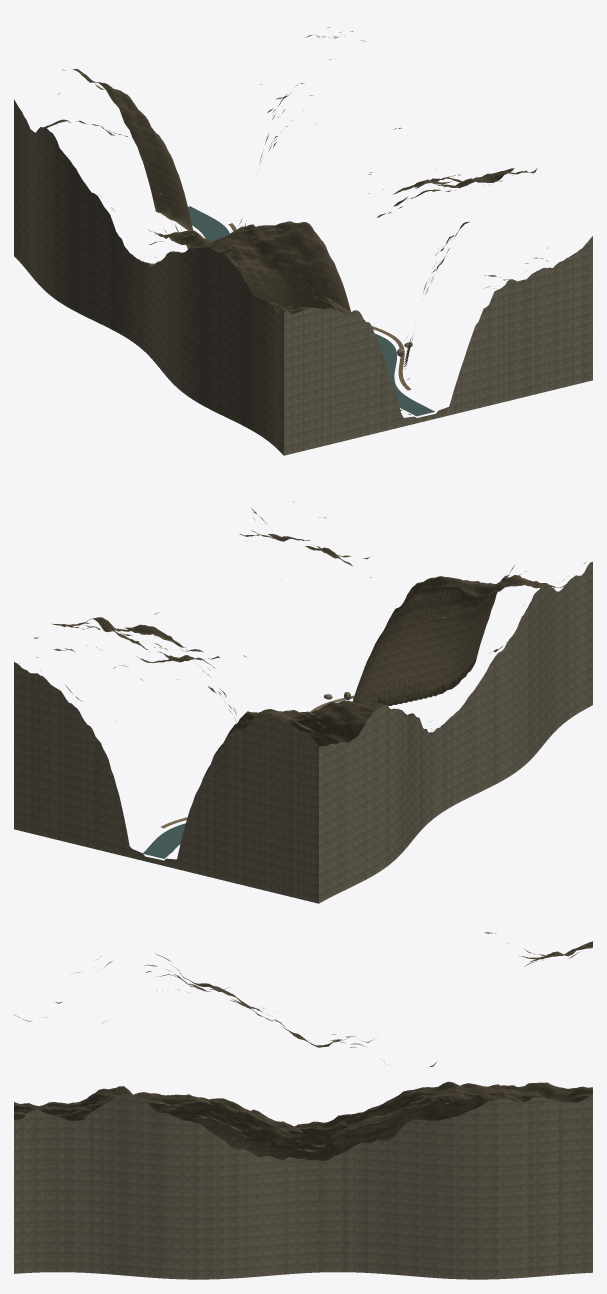
The model's file is ch10_lazikou_pass.glb.
The picture shows the model from 3 angles, top to bottom: view 1: azimuth 30°, elevation 25°; view 2: azimuth 150°, elevation 25°; view 3: azimuth 270°, elevation 25°; orthographic projection. The views are drawn at different scales.
Visible parts, largest first — view 1: terrain_boundary__closed_earth_boundary, terrain__eroded_landscape, water_placeholder__river_waterline; view 2: terrain_boundary__closed_earth_boundary, terrain__eroded_landscape, water_placeholder__river_waterline; view 3: terrain_boundary__closed_earth_boundary, terrain__eroded_landscape.
Boxes of the visible parts, x1,y1,x2,y2 form: terrain_boundary__closed_earth_boundary: (14, 99, 592, 455); terrain__eroded_landscape: (41, 27, 548, 414); water_placeholder__river_waterline: (188, 206, 434, 416); terrain_boundary__closed_earth_boundary: (14, 561, 592, 903); terrain__eroded_landscape: (19, 501, 585, 852); water_placeholder__river_waterline: (143, 823, 185, 858); terrain_boundary__closed_earth_boundary: (14, 1093, 592, 1279); terrain__eroded_landscape: (14, 932, 592, 1160).
Size of the model in its own units: 155 by 79.28 by 220.
5 materials, 4 textured.
